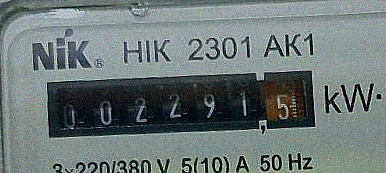0: (58, 99, 78, 129), (96, 96, 114, 126)
1: (235, 86, 251, 121)
2: (131, 94, 149, 124), (166, 90, 182, 119)
5: (273, 90, 291, 121)
9: (200, 89, 218, 120)
screen: (40, 57, 321, 152)
